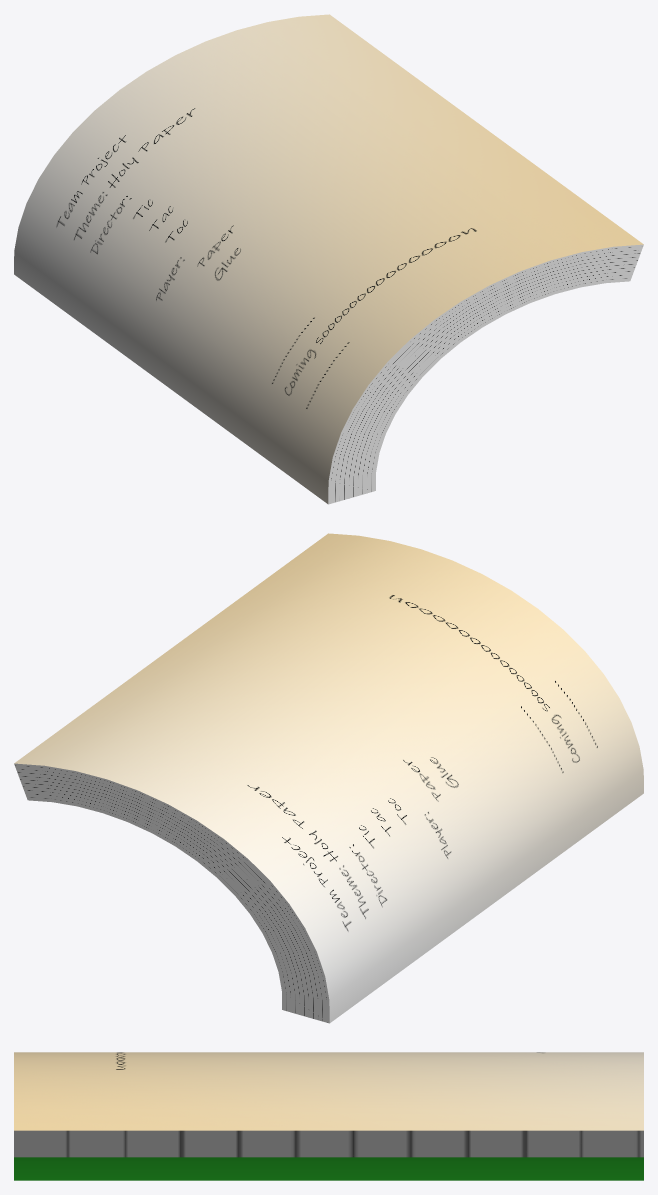
Rendered from book-half.FBX.
3 renders of one model, top to bottom at view 1: azimuth 30°, elevation 25°; view 2: azimuth 150°, elevation 25°; view 3: azimuth 270°, elevation 25°, orthographic.
Parts seen in each view (by area): view 1: Box001; view 2: Box001; view 3: Box001.
Boxes of the visible parts, x1=… form: Box001: x1=14, y1=14, x2=643, y2=504; Box001: x1=14, y1=533, x2=643, y2=1023; Box001: x1=14, y1=1052, x2=643, y2=1180.
Size of the model in its own units: 56.62 by 32.65 by 97.65.
1 material, 1 textured.
